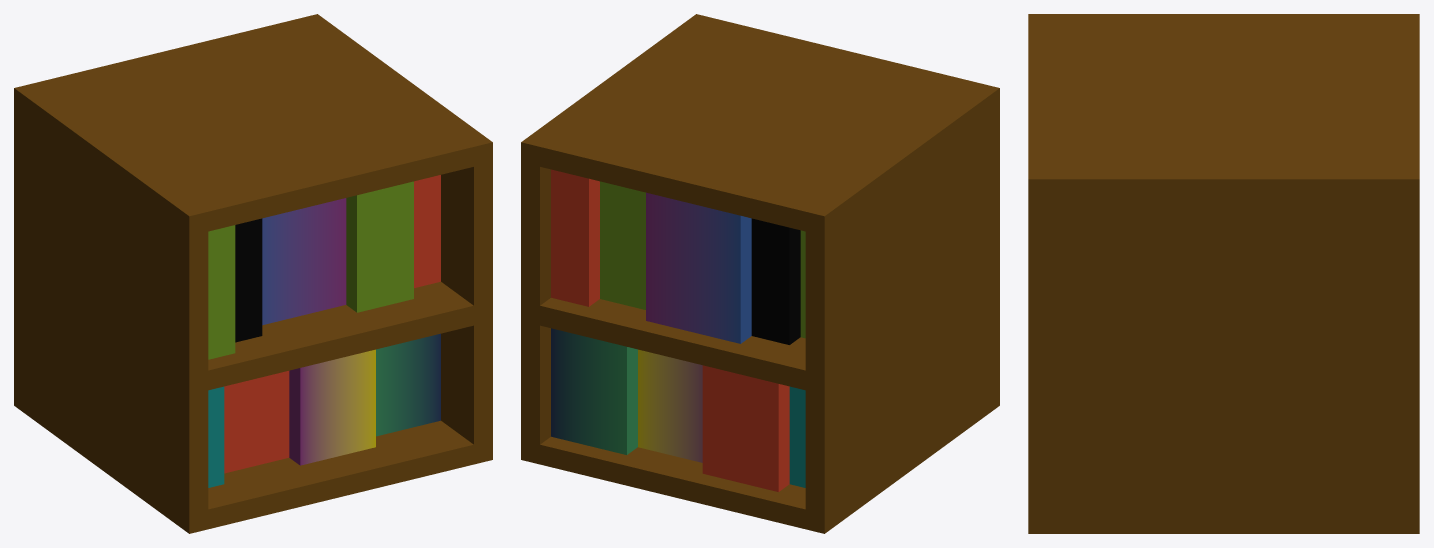
File: Matrix_0 - Copy.dae
The picture shows the model from 3 angles, left to right: view 1: azimuth 30°, elevation 25°; view 2: azimuth 150°, elevation 25°; view 3: azimuth 270°, elevation 25°; orthographic projection. The views are drawn at different scales.
Parts seen in each view (by area): view 1: Matrix_0; view 2: Matrix_0; view 3: Matrix_0.
Boxes of the visible parts, x1,y1,x2,y2 form: Matrix_0: (14,14,492,533); Matrix_0: (521,14,999,533); Matrix_0: (1028,14,1419,533).
Size of the model in its own units: 16 by 16 by 16.
